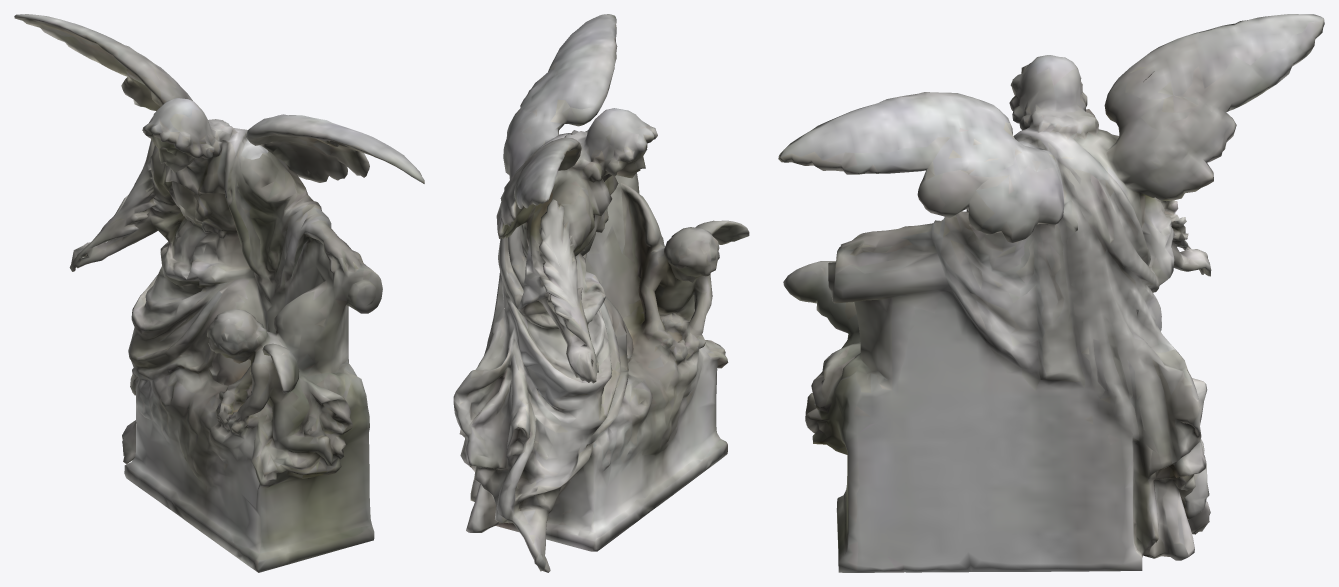
The model's file is engel-wings.glb.
3 views of the same model, side by side, from view 1: azimuth 30°, elevation 25°; view 2: azimuth 150°, elevation 25°; view 3: azimuth 270°, elevation 25° (orthographic). The views are drawn at different scales.
Parts seen in each view (by area): view 1: low; view 2: low; view 3: low.
Part boxes in pixels (box(x1,y1,x2,y2)): low: box(14, 14, 424, 572); low: box(453, 14, 749, 572); low: box(778, 14, 1324, 572).
Size of the model in its own units: 1.09 by 2.4 by 2.4.
1 material, 1 textured.
